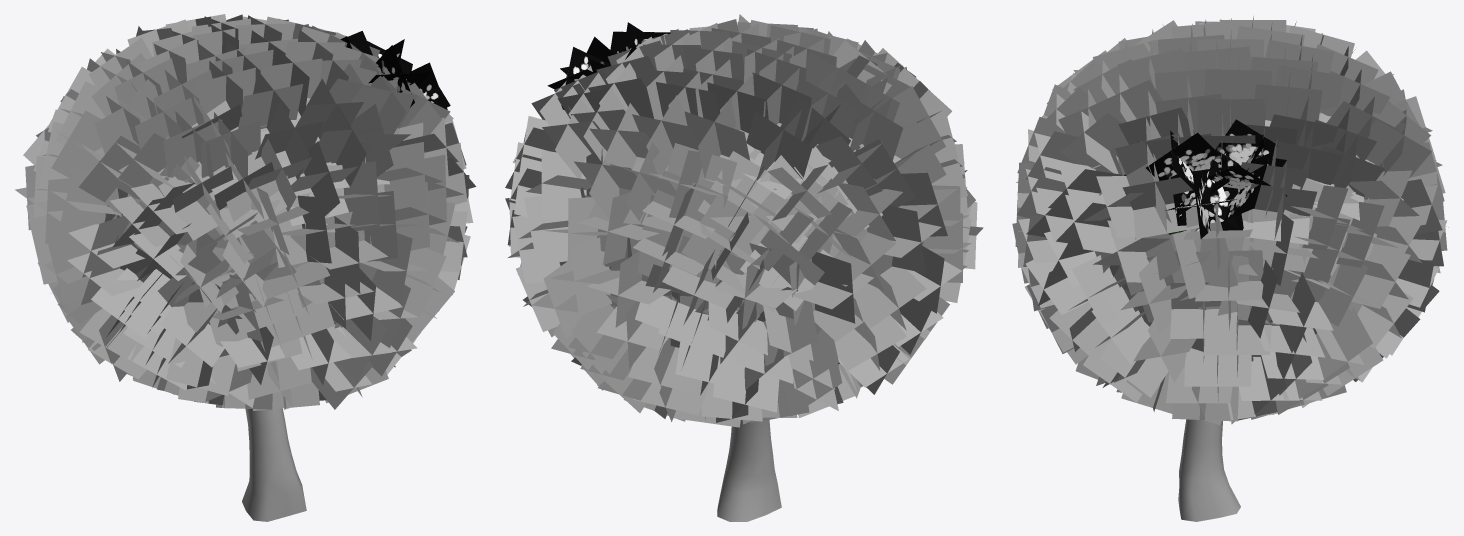
The model's file is sm_Tree01_LOD01.fbx.
3 renders of one model, left to right at view 1: azimuth 30°, elevation 25°; view 2: azimuth 150°, elevation 25°; view 3: azimuth 270°, elevation 25°, orthographic. The views are drawn at different scales.
Parts seen in each view (by area): view 1: sm_Tree01_TreeLeaves_LOD01, sm_Tree01_TreeTrunk_LOD01; view 2: sm_Tree01_TreeLeaves_LOD01, sm_Tree01_TreeTrunk_LOD01; view 3: sm_Tree01_TreeLeaves_LOD01, sm_Tree01_TreeTrunk_LOD01.
Part boxes in pixels (x1,y1,x2,y2): sm_Tree01_TreeLeaves_LOD01: (15, 14, 476, 410); sm_Tree01_TreeTrunk_LOD01: (242, 408, 306, 521); sm_Tree01_TreeLeaves_LOD01: (505, 14, 983, 427); sm_Tree01_TreeTrunk_LOD01: (717, 420, 781, 521); sm_Tree01_TreeLeaves_LOD01: (1012, 16, 1448, 424); sm_Tree01_TreeTrunk_LOD01: (1178, 419, 1240, 521).
Size of the model in its own units: 61.01 by 66.99 by 58.82.
